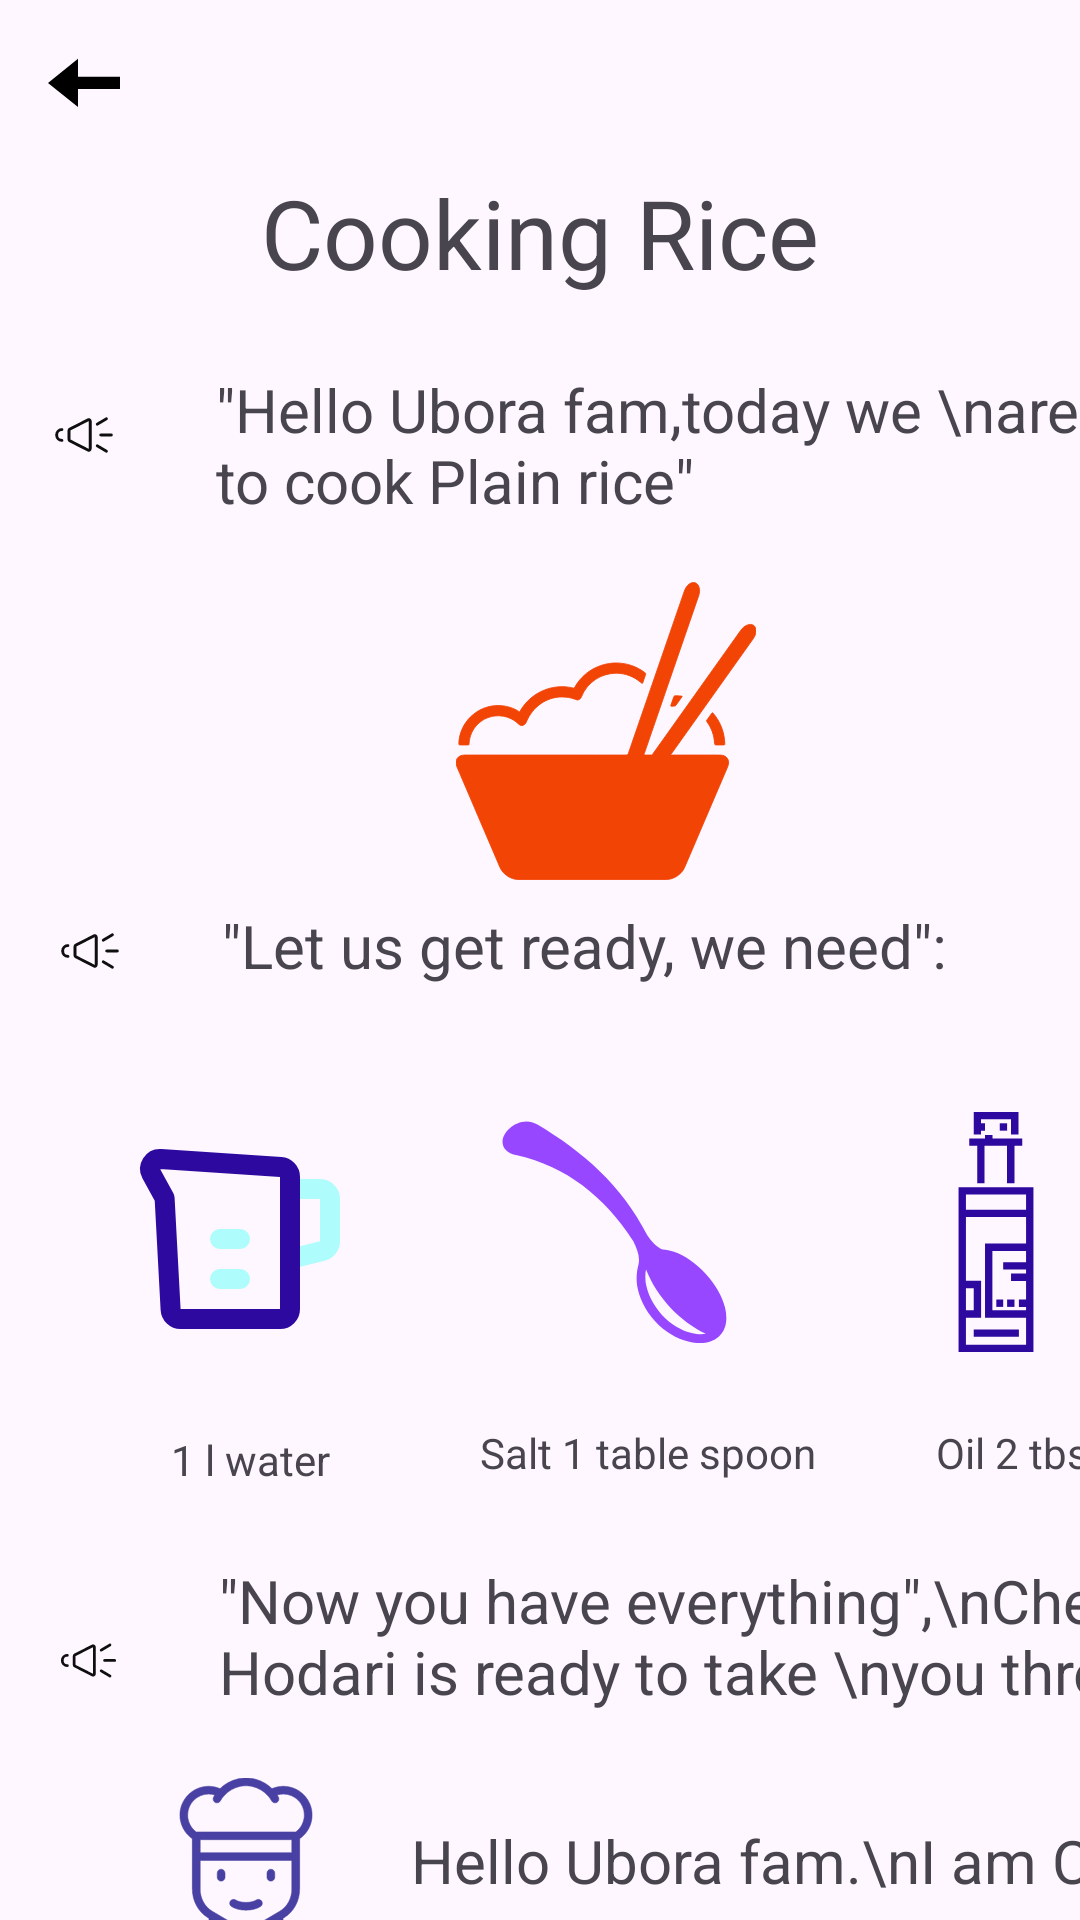

Icons on this 1080px x 1920px Android screen, each with its box as (x1, y1, x2, y2):
jug: (140, 1149, 340, 1329)
left arrow: (48, 59, 120, 107)
sound: (55, 417, 113, 453), (61, 933, 119, 969), (61, 1643, 116, 1678)
